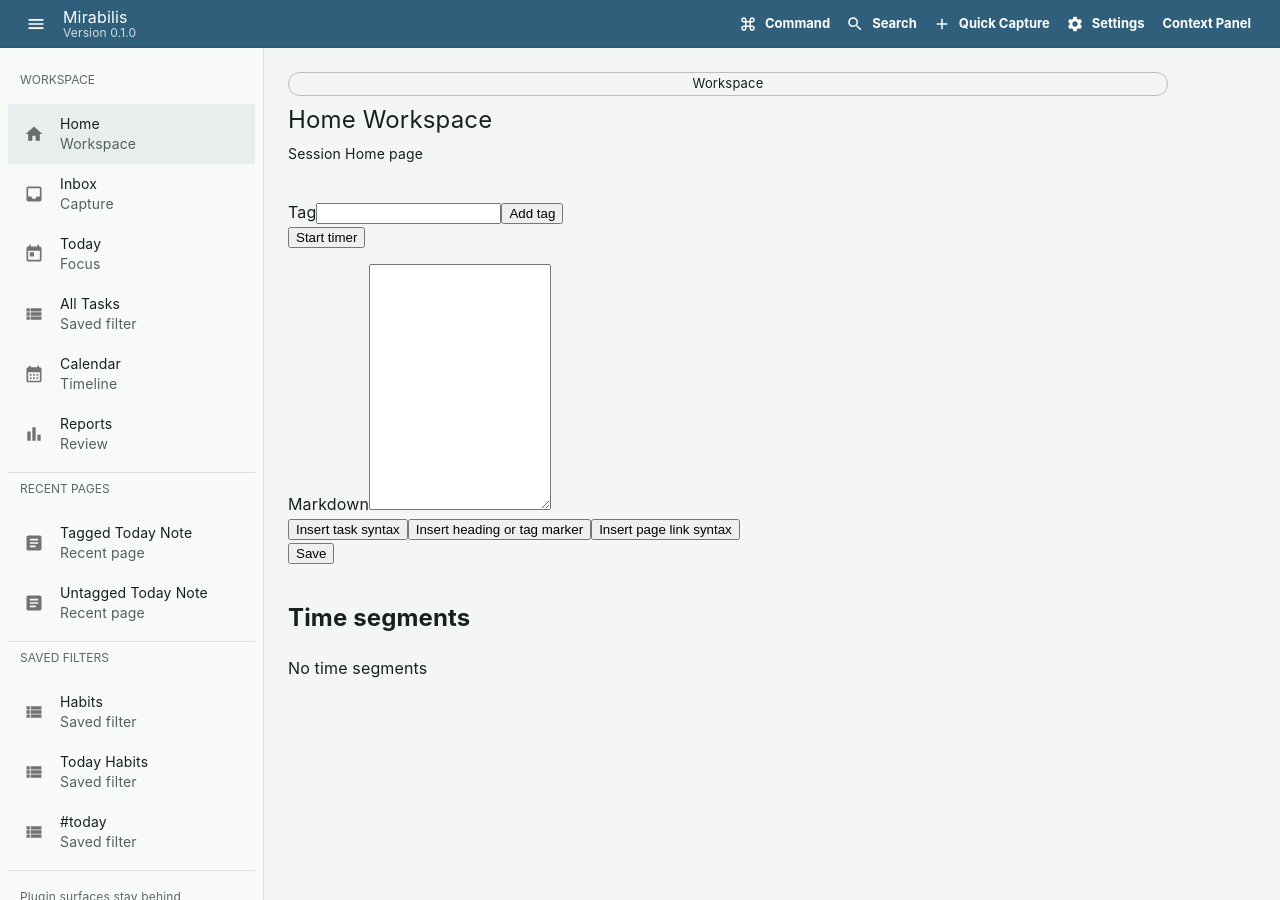
Test case: TASK-038 sidebar page and saved-filter navigation › shows public tag saved filters in the Drawer even when their names contain a primary route label
Click the button "#today Saved filter": (80, 832) [24,813,137,850]
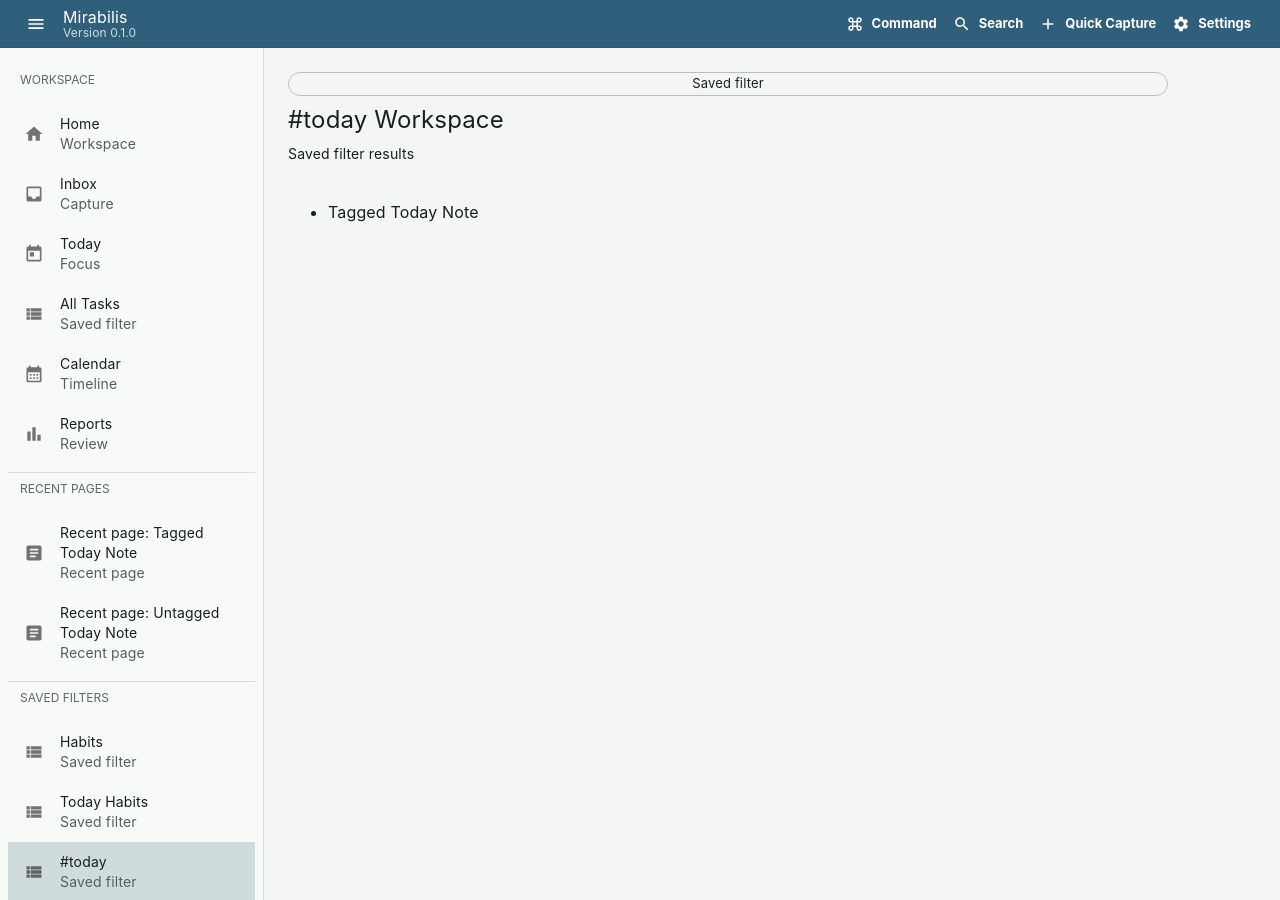
Check: the list item "Tagged Today Note" is shown, box [328,202,479,222]
